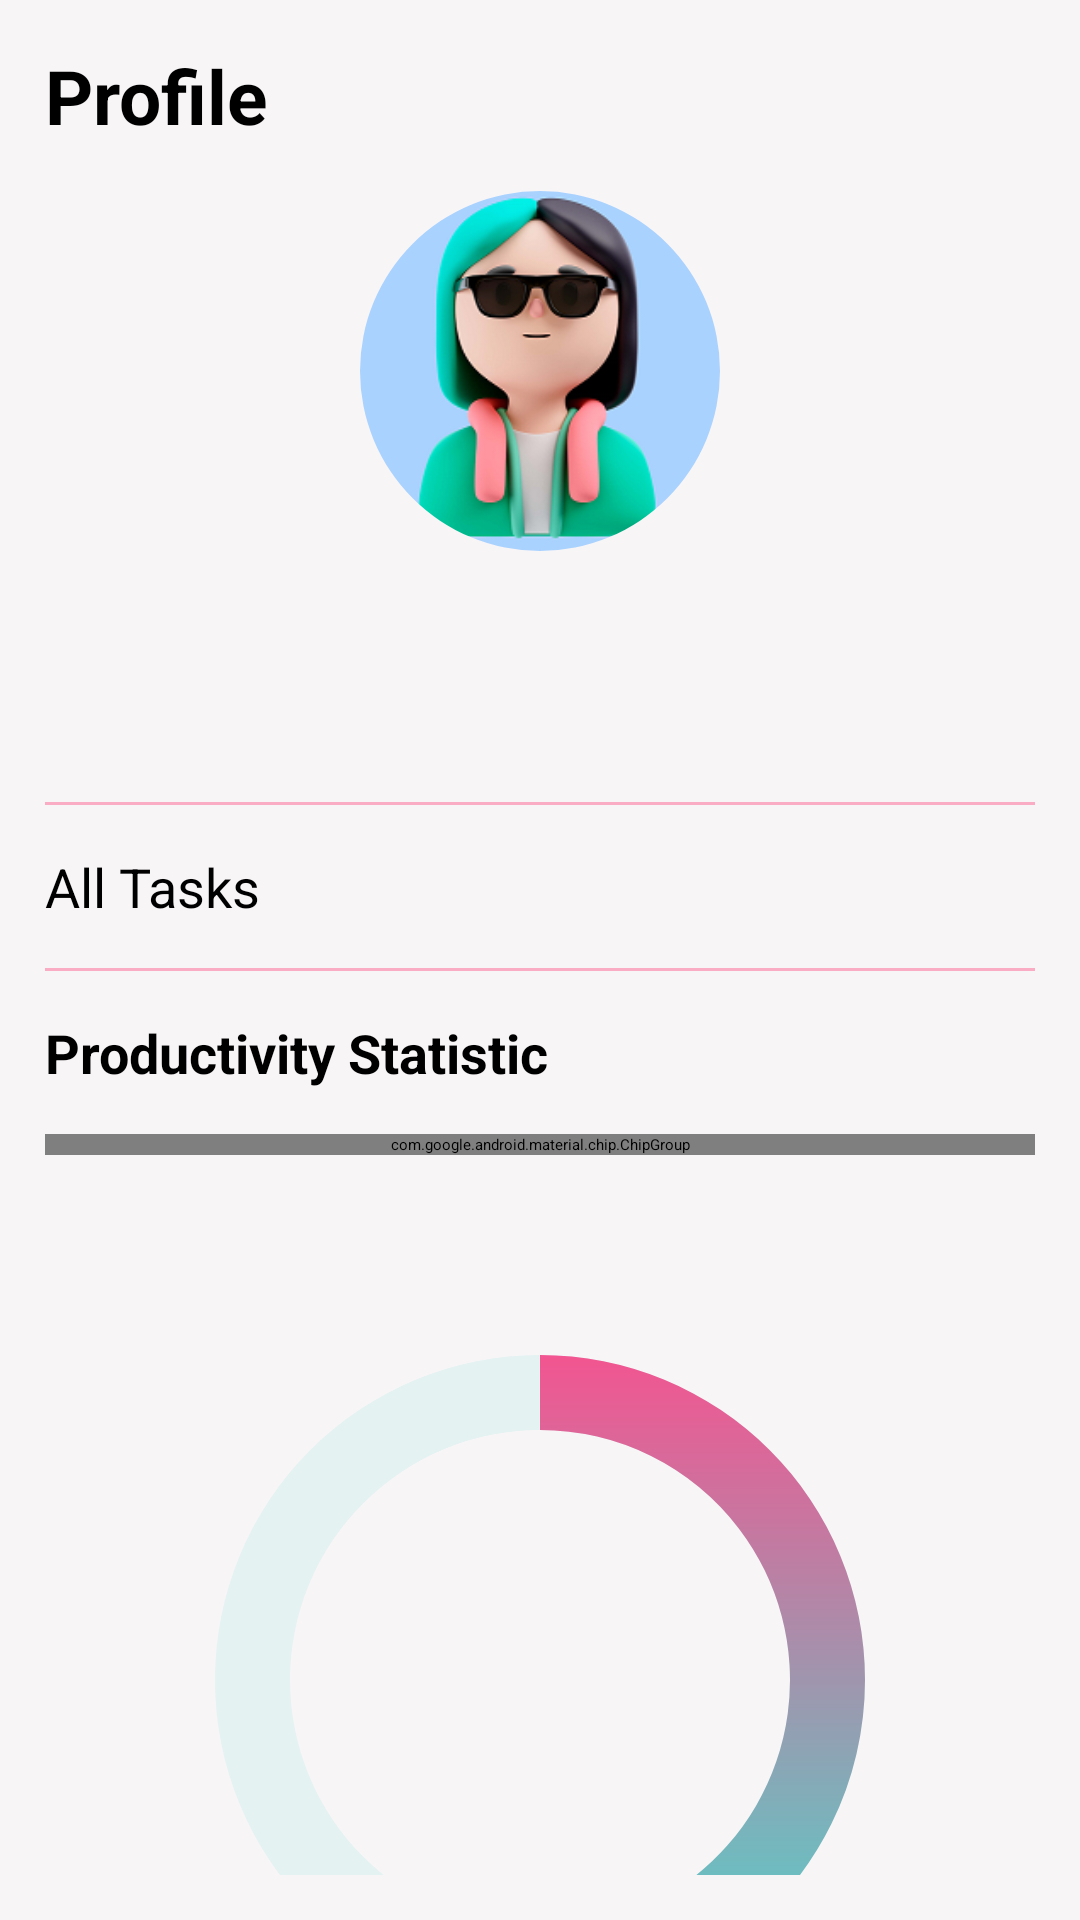

Locate icon controls on the screen. Image size 1080*1920, boxes as box=[x1, y1, x2, y2].
female user: box=[360, 191, 720, 551]
